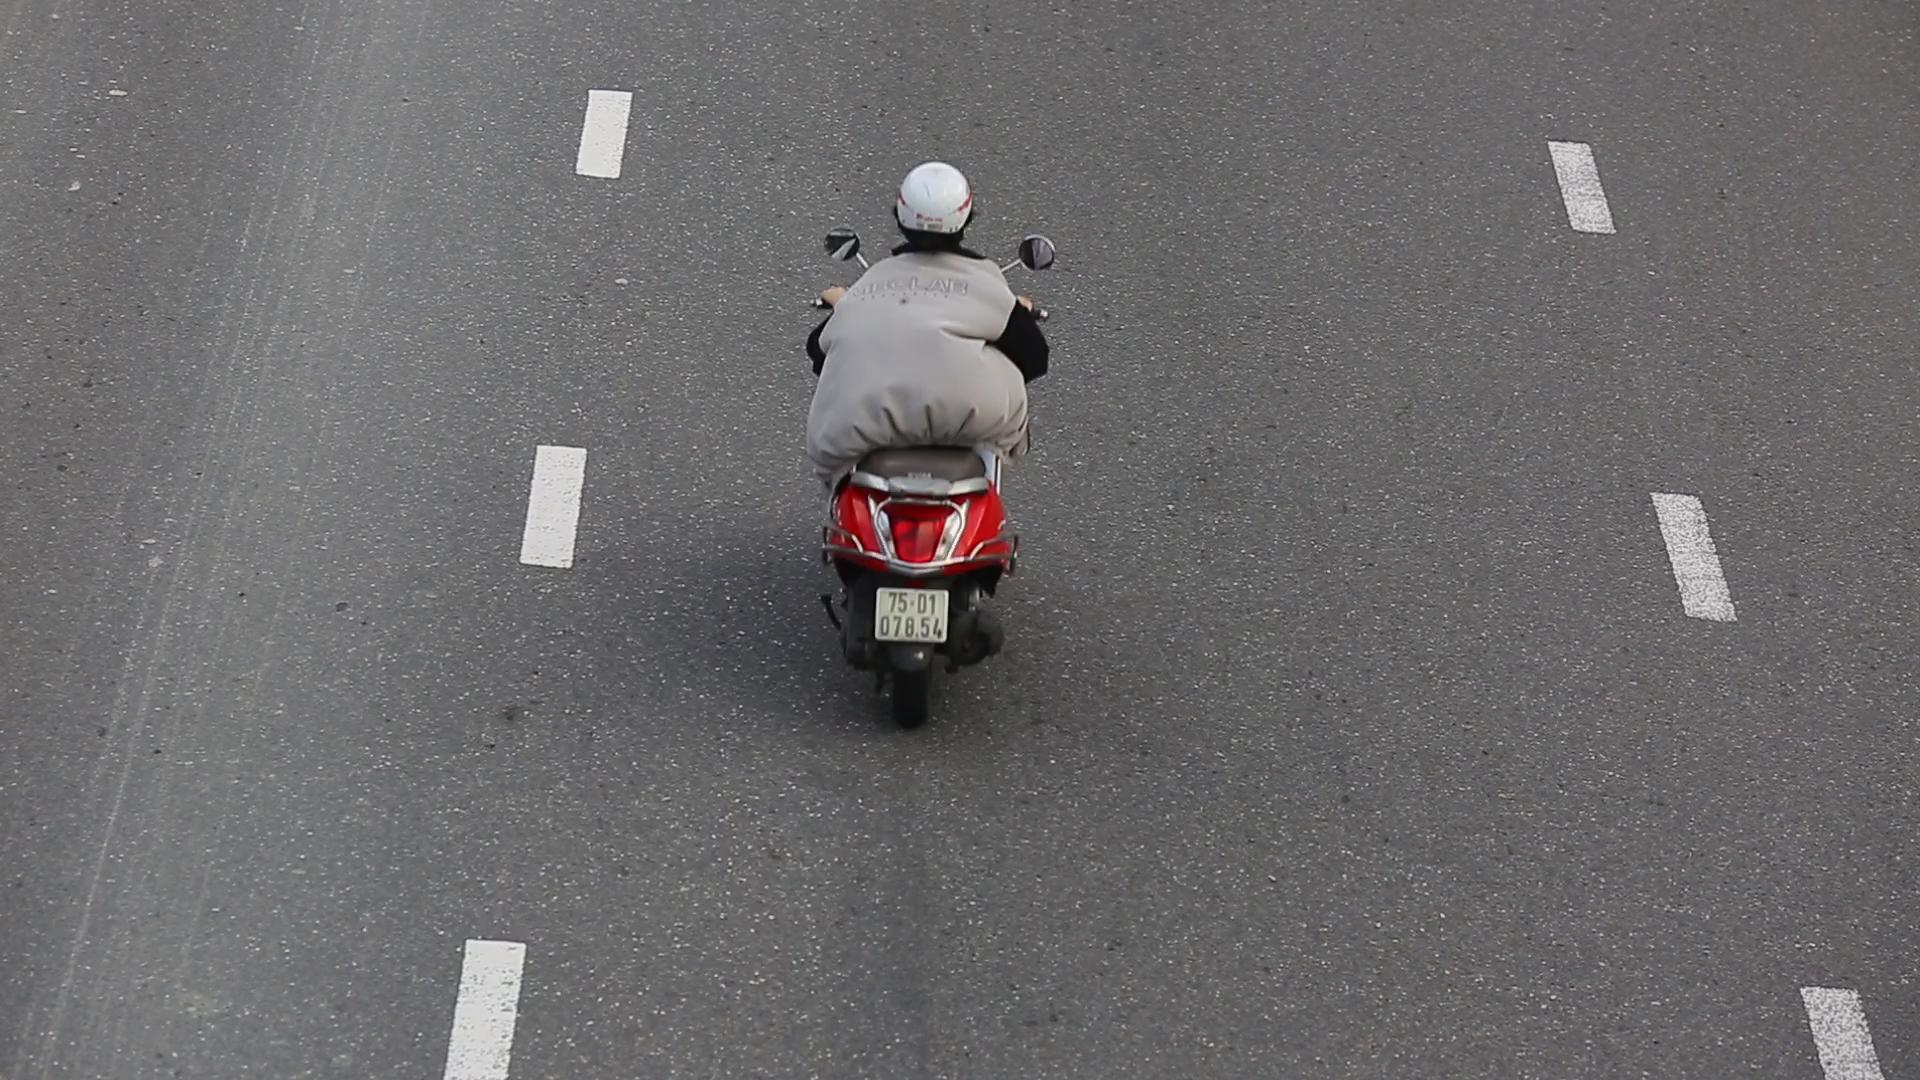motobike: (800, 137, 1056, 728)
